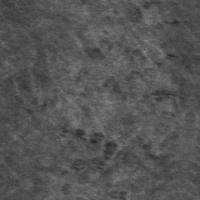rolled-in_scale: (86, 29, 190, 122), (43, 114, 152, 198)
